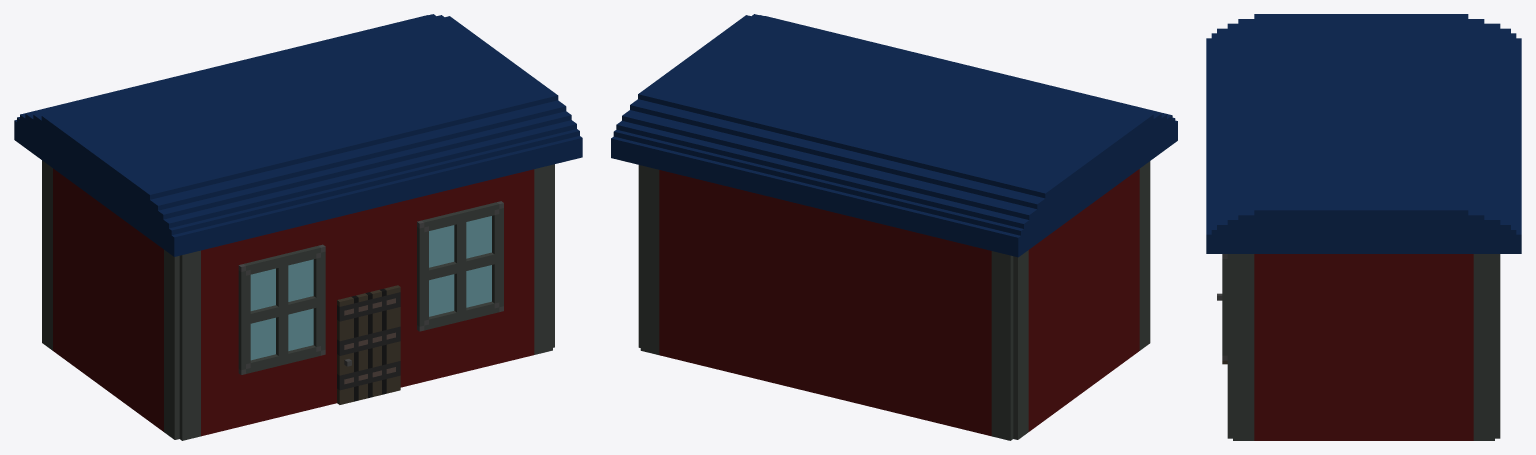
Rendered from Casa2.obj.
3 renders of one model, left to right at view 1: azimuth 30°, elevation 25°; view 2: azimuth 150°, elevation 25°; view 3: azimuth 270°, elevation 25°, orthographic.
Bounding box in the file's own units: 8.7 × 4.9 × 5.9.
1 material, 1 textured.
